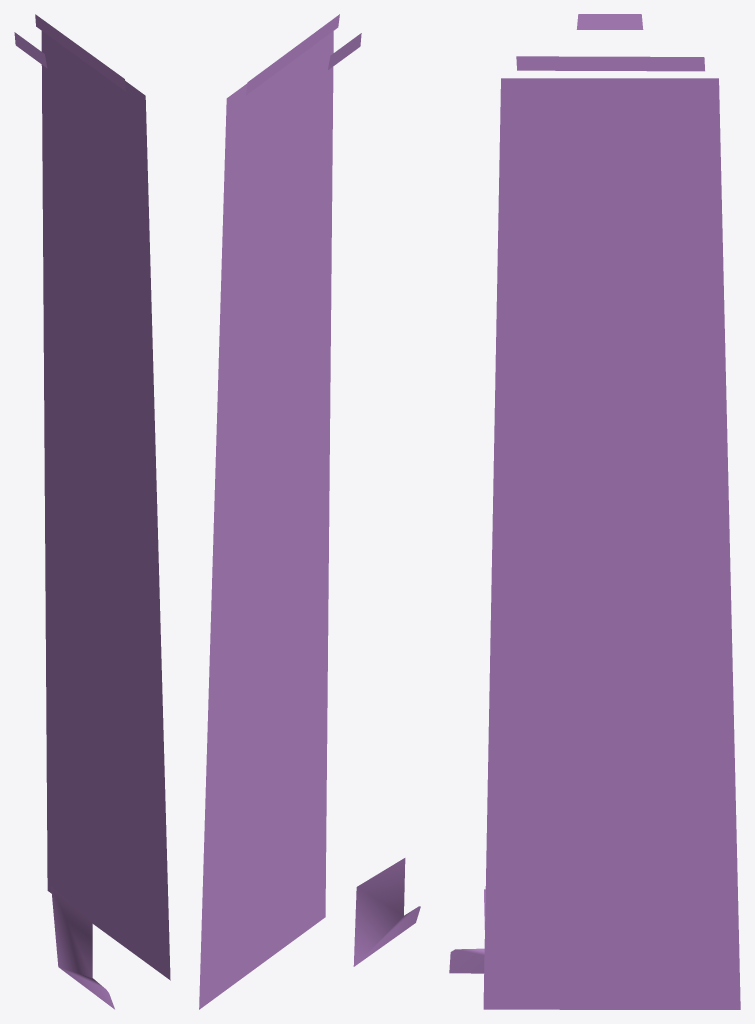
Rendered from Building_LOD2.fbx.
3 renders of one model, left to right at view 1: azimuth 30°, elevation 25°; view 2: azimuth 150°, elevation 25°; view 3: azimuth 270°, elevation 25°, orthographic. The views are drawn at different scales.
Parts seen in each view (by area): view 1: Cube.001; view 2: Cube.001; view 3: Cube.001.
Boxes of the visible parts, bbox=[...] form: Cube.001: bbox=[14, 14, 170, 1009]; Cube.001: bbox=[199, 14, 420, 1009]; Cube.001: bbox=[449, 14, 740, 1009].
Bounding box in the file's own units: 390 × 4235 × 1171.
